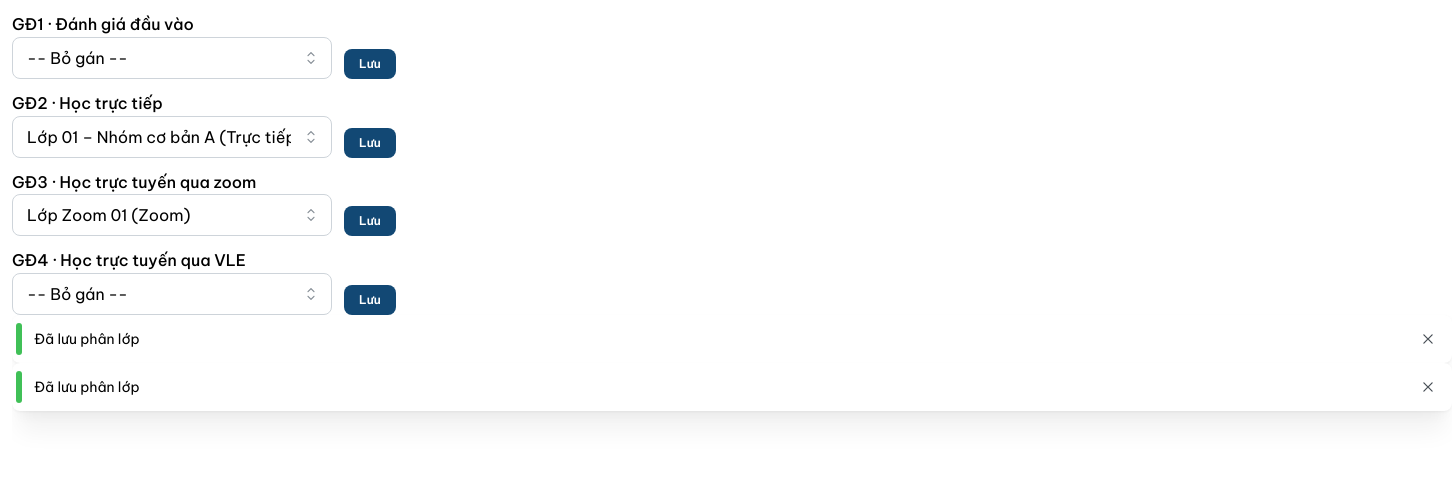
PhanLopTheoGiaiDoan › API trả canh_bao -> notification hiện nội dung cảnh báo
Click the button "Lưu" below "GĐ2 · Học trực tiếp" at coordinates (370, 143), box [344, 128, 396, 158]
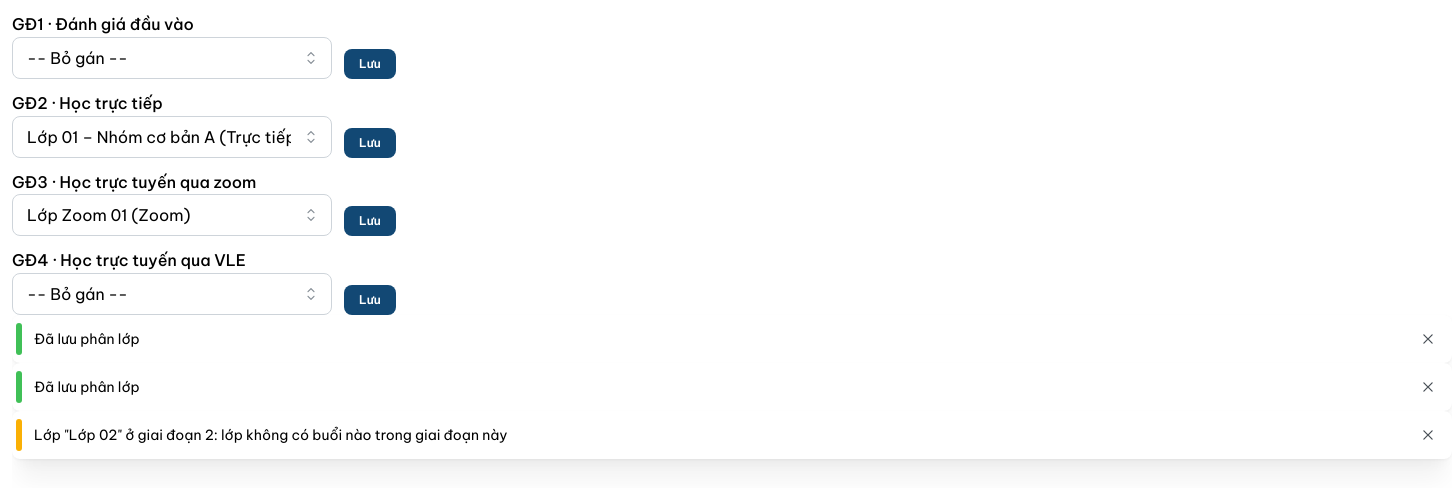
Result: the text "lớp không có buổi nào trong giai đoạn này" is shown at [34, 426, 507, 444]
